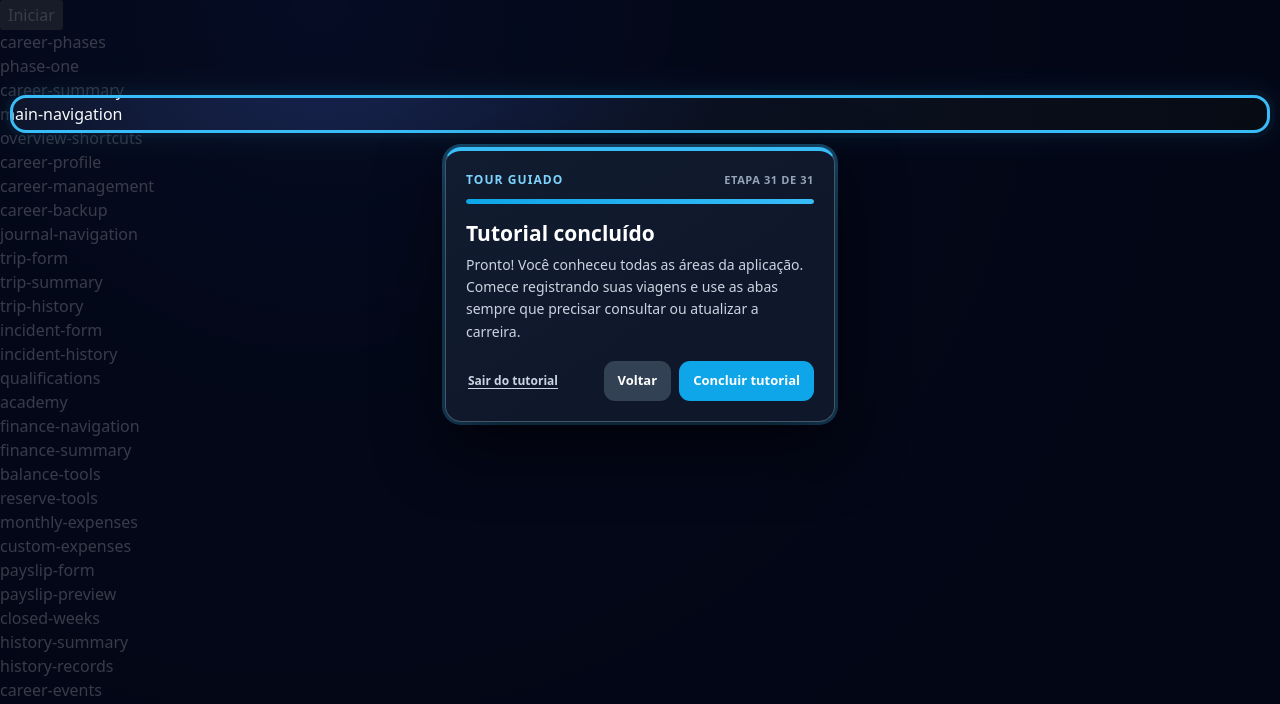
Scenario: TutorialProvider › resumes a saved step and clears it when the tutorial is completed
The width and height of the screenshot is (1280, 704).
Expected: the dialog with class "guided-tutorial-popover" shows "Tutorial concluído", [466,219,655,247]
Click the button "Concluir tutorial".
click(747, 381)  # box [679,361,814,401]
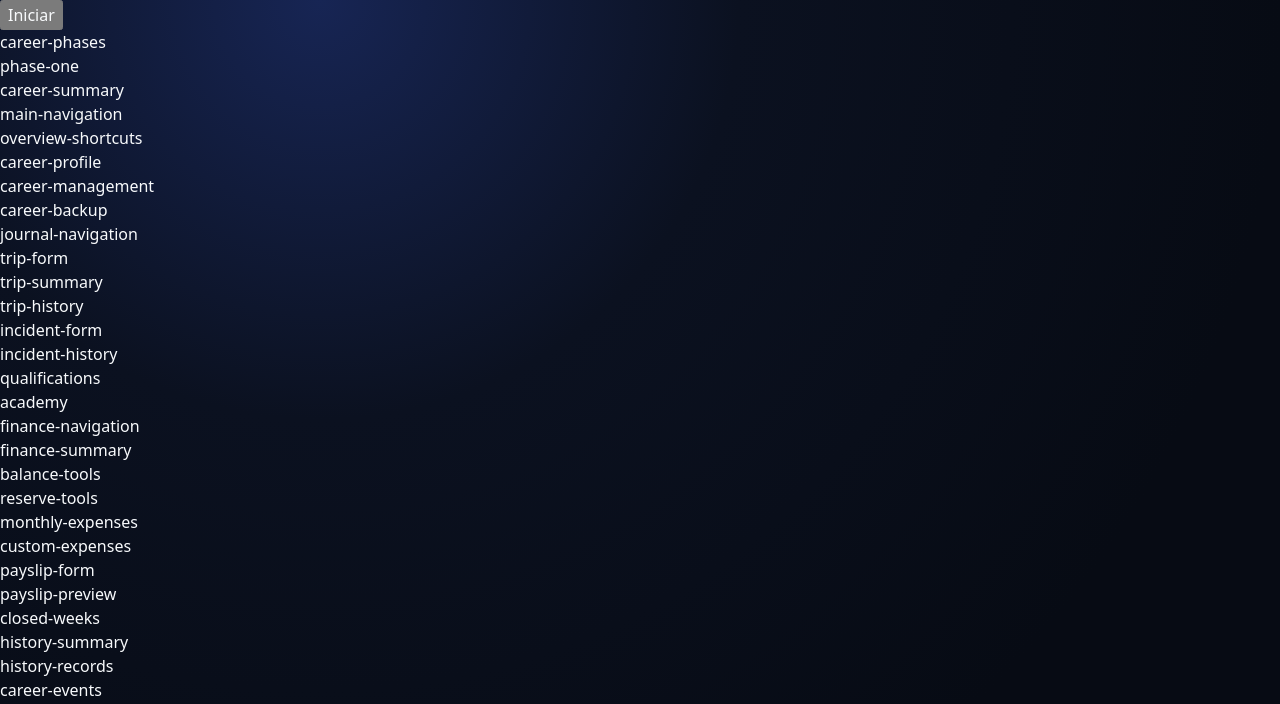
Expected: the dialog with class "guided-tutorial-popover" is gone
